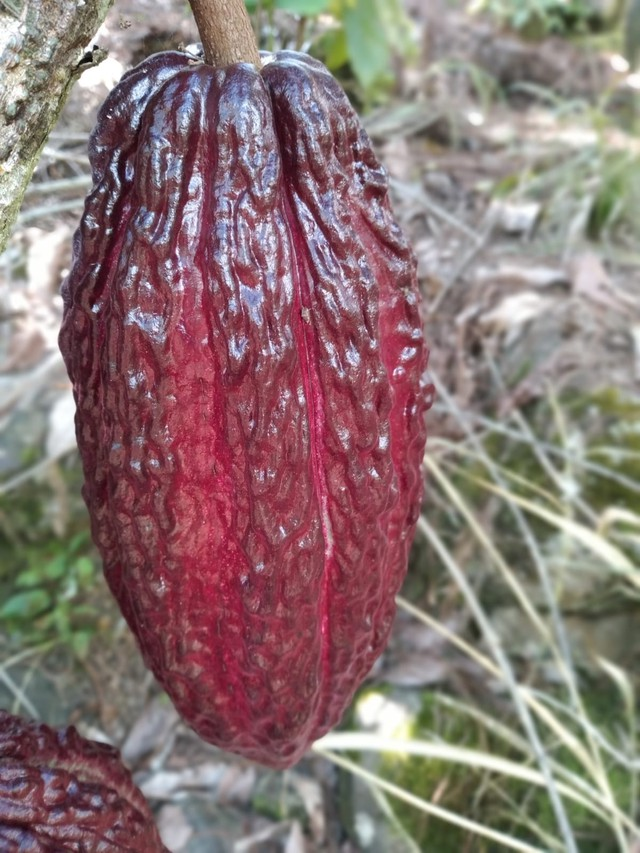Health: (57, 25, 443, 779)
